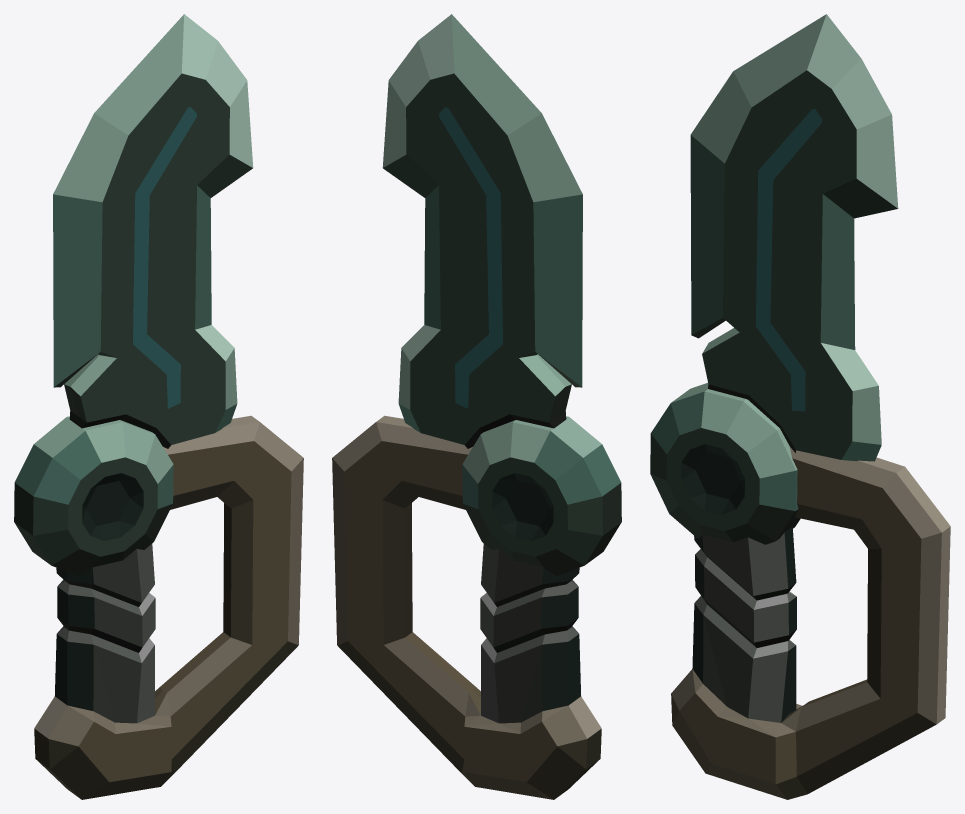
The model's file is Knife_Neon_08.fbx.
3 renders of one model, left to right at view 1: azimuth 30°, elevation 25°; view 2: azimuth 150°, elevation 25°; view 3: azimuth 330°, elevation 25°, orthographic. The views are drawn at different scales.
Parts seen in each view (by area): view 1: Knife_Neon_08; view 2: Knife_Neon_08; view 3: Knife_Neon_08.
Part boxes in pixels (x1=…): Knife_Neon_08: x1=14, y1=14, x2=303, y2=799; Knife_Neon_08: x1=332, y1=14, x2=621, y2=799; Knife_Neon_08: x1=650, y1=14, x2=950, y2=799.
Size of the model in its own units: 0.1256 by 0.3304 by 0.0301.
